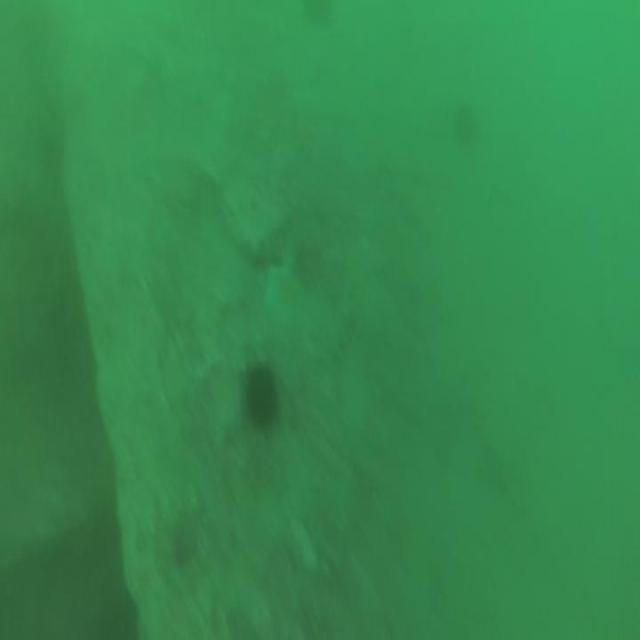echinus: (245, 370, 280, 431), (452, 98, 474, 145)
